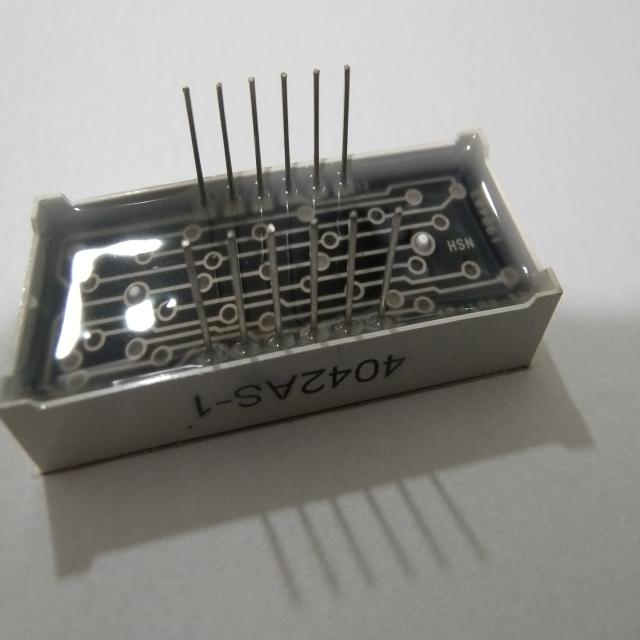7_segments_4_digits: (0, 58, 583, 484)
